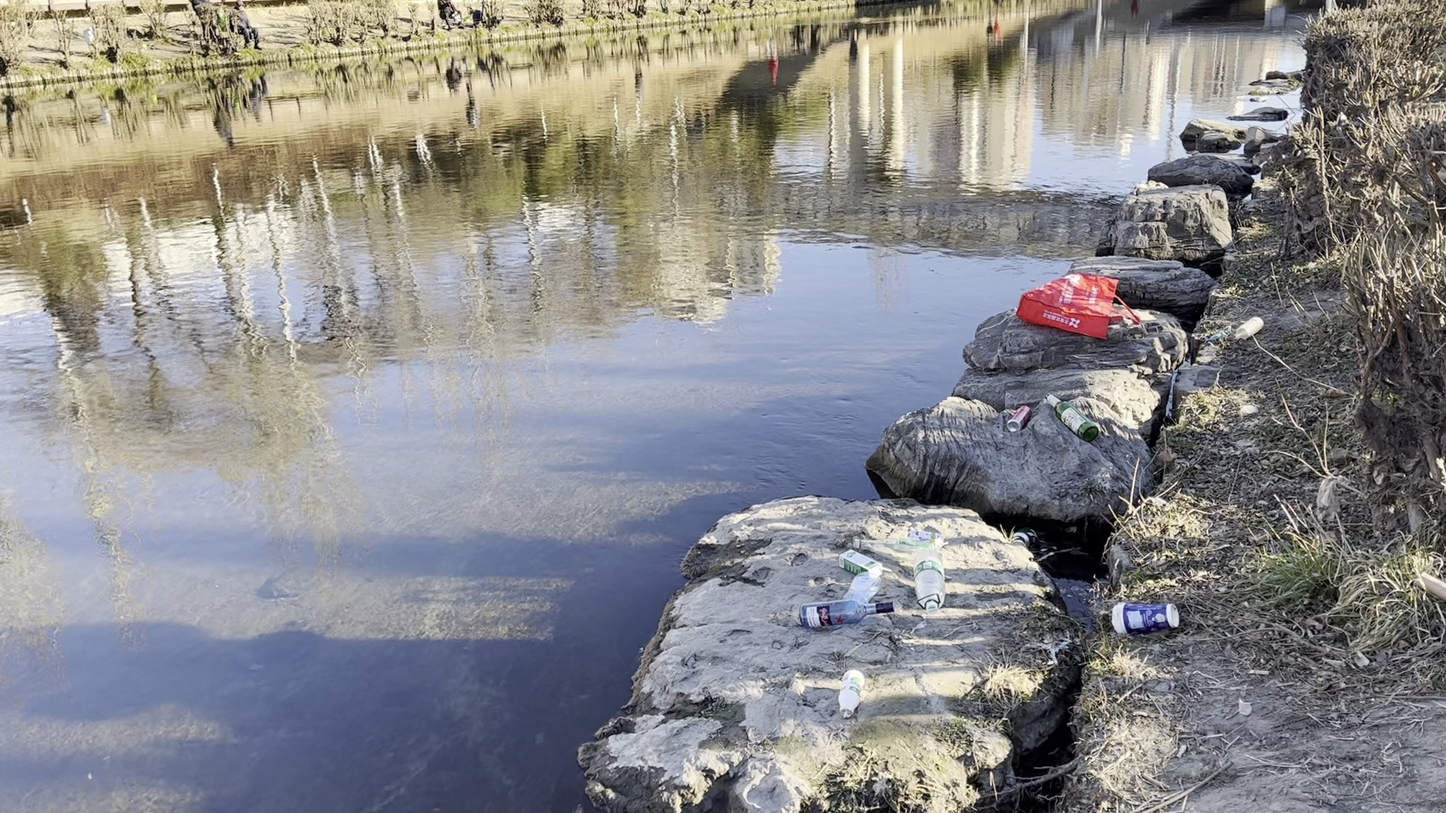floater: (1017, 274, 1142, 338), (912, 543, 953, 617), (1045, 391, 1099, 443), (798, 601, 895, 626), (1109, 603, 1179, 636), (839, 549, 891, 577), (838, 669, 865, 718), (853, 537, 934, 552), (844, 571, 883, 601), (1235, 317, 1264, 343), (1007, 403, 1032, 431), (909, 529, 944, 545)
